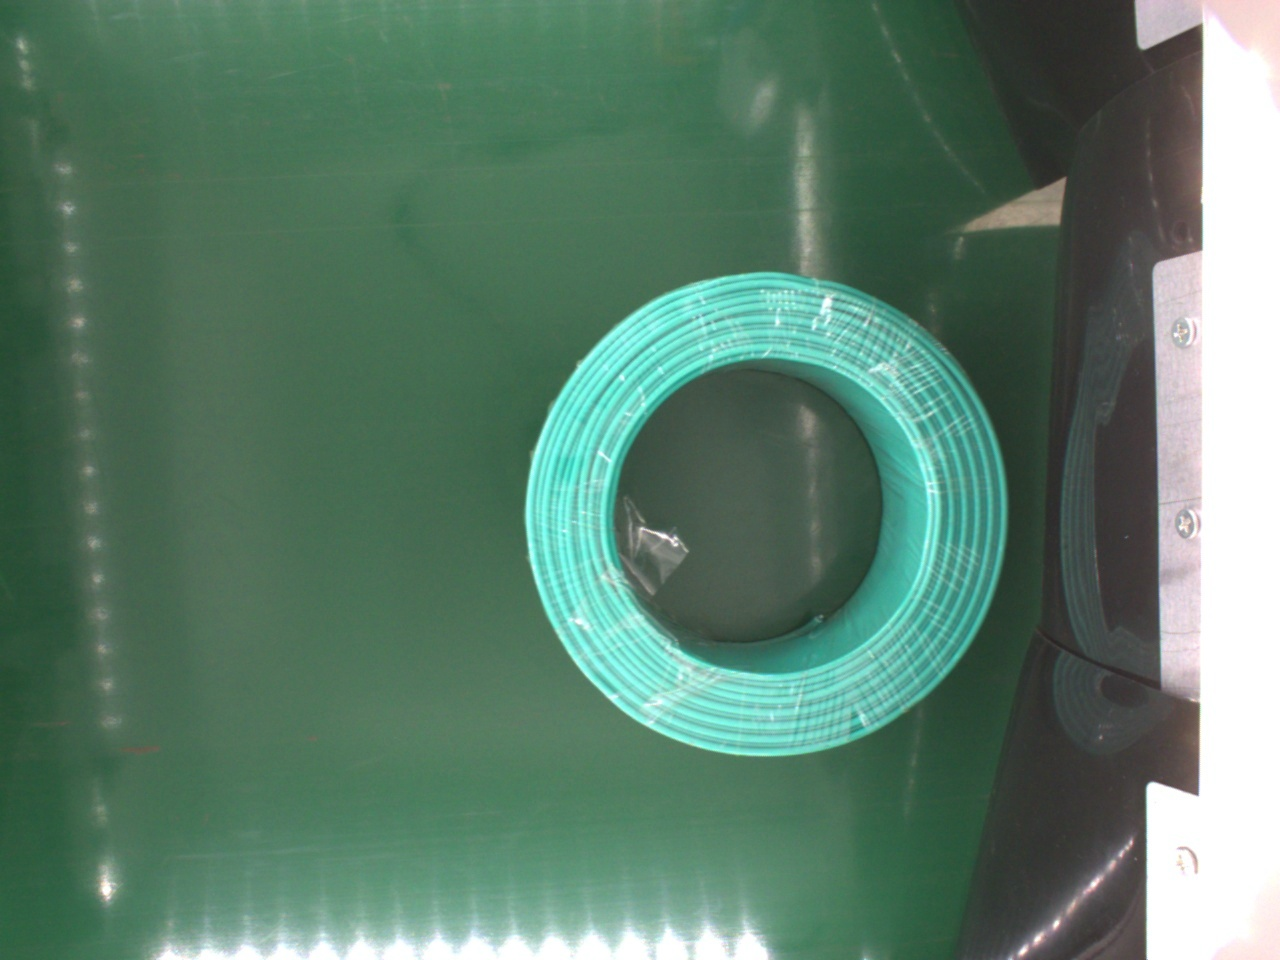green: (525, 271, 1014, 766)
